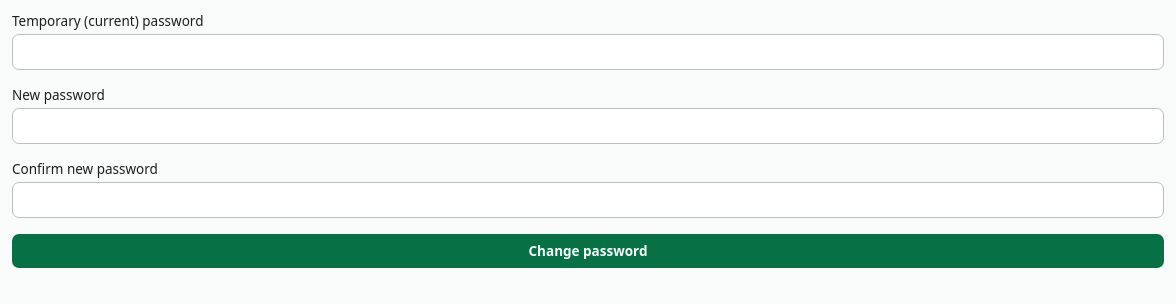
Test: ChangePasswordForm › shows a mismatch error and does not submit when the passwords differ
Type "temp-pass-1" into the password field labelled "Temporary (current) password" at (588, 52), box [12,34,1164,70]
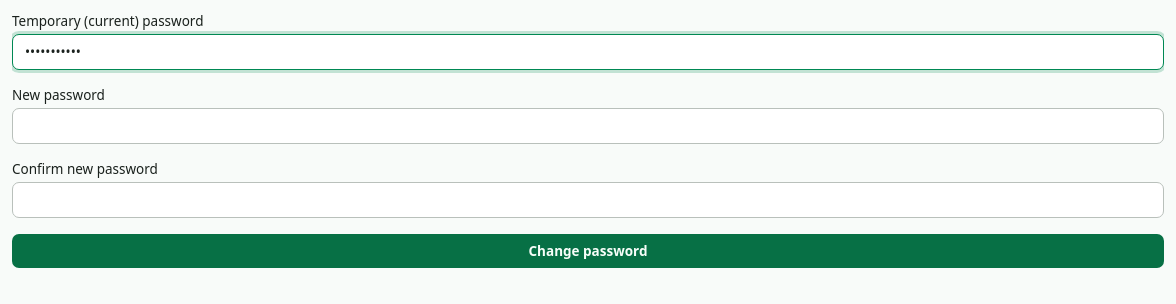
Type "newpass123" into the password field labelled "New password" at (588, 126), box [12,108,1164,144]
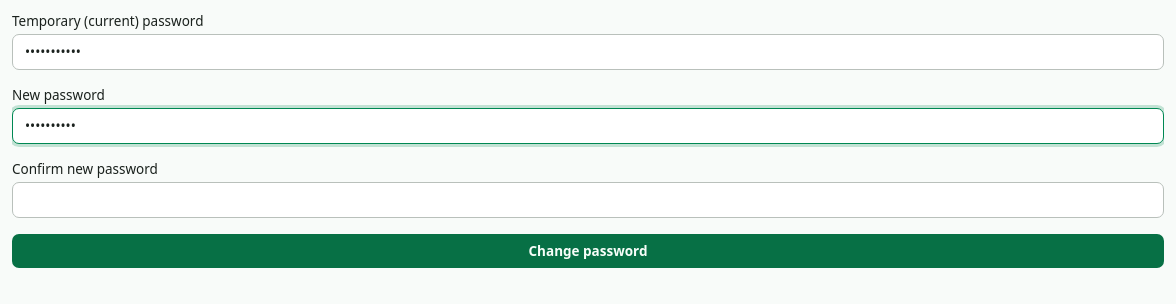
Type "different123" into the password field labelled "Confirm new password" at (588, 200), box [12,182,1164,218]
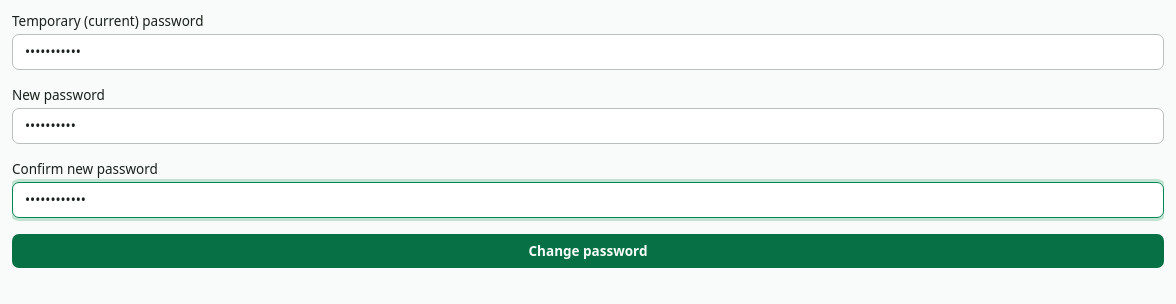
Click the button "Change password" at (588, 251), box [12,234,1164,268]
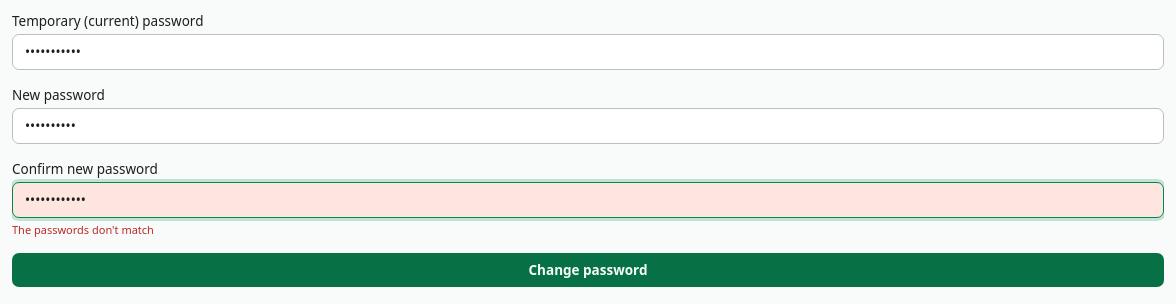
Result: the text "The passwords don't match" is shown at [12,222,154,237]
